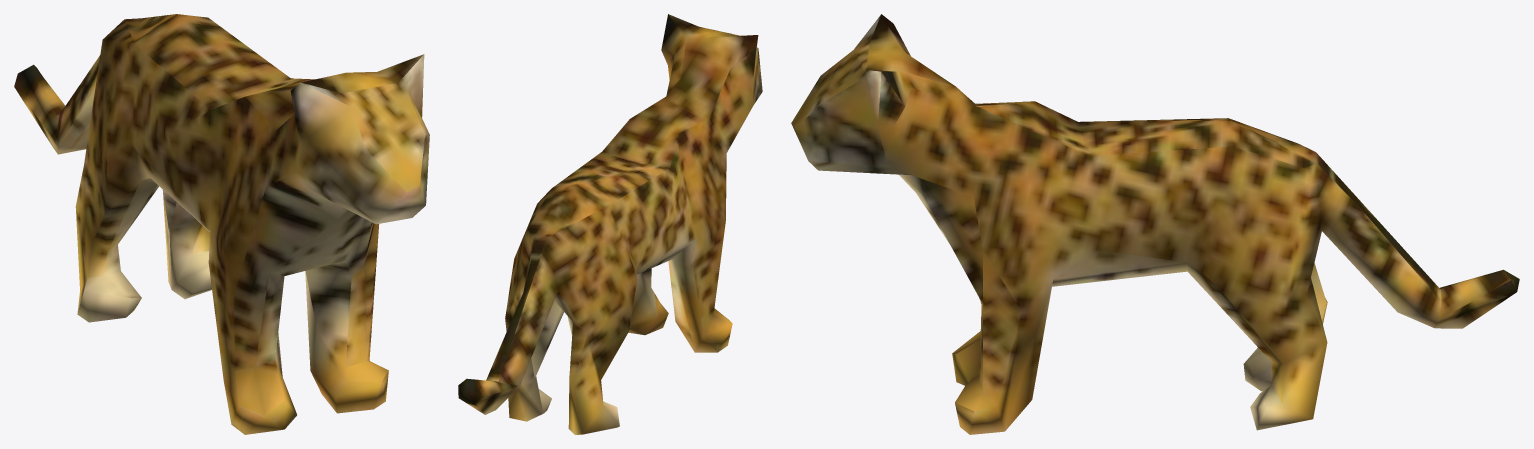
File: ocelot-DYpihB6q.glb
The picture shows the model from 3 angles, left to right: view 1: azimuth 30°, elevation 25°; view 2: azimuth 150°, elevation 25°; view 3: azimuth 270°, elevation 25°; orthographic projection. The views are drawn at different scales.
Visible parts, largest first — view 1: geom0; view 2: geom0; view 3: geom0.
Boxes of the visible parts, box(x1,y1,x2,y2) form: geom0: box(14, 14, 429, 434); geom0: box(458, 14, 762, 434); geom0: box(791, 14, 1519, 434).
Size of the model in its own units: 0.2319 by 0.552 by 1.01.
Materials: 1 (1 with a texture image).
